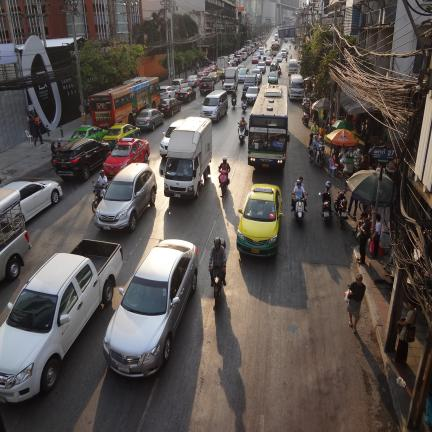bus: (89, 77, 160, 128), (248, 84, 289, 167)
car: (103, 240, 198, 377), (94, 163, 157, 232), (54, 139, 111, 181), (4, 181, 62, 222), (160, 119, 185, 157), (67, 125, 107, 142), (135, 108, 164, 130), (158, 98, 181, 116), (176, 86, 196, 102), (171, 78, 188, 92), (246, 86, 260, 103), (160, 86, 175, 98), (251, 68, 262, 83), (187, 75, 199, 88), (238, 68, 249, 82), (257, 61, 266, 74), (216, 68, 225, 79), (116, 142, 117, 144), (138, 129, 139, 130)
human: (392, 300, 417, 364), (347, 273, 366, 333), (209, 237, 226, 286), (357, 212, 371, 264), (371, 211, 382, 258), (291, 179, 307, 211), (218, 156, 230, 184), (312, 135, 320, 165), (348, 195, 358, 217), (34, 119, 42, 146), (96, 170, 107, 187), (28, 115, 35, 140), (360, 154, 370, 170), (310, 120, 319, 134), (239, 116, 247, 127), (51, 140, 57, 154), (298, 176, 304, 188), (241, 90, 246, 101), (370, 164, 376, 170), (294, 181, 297, 187), (219, 175, 220, 187)
motorbike: (212, 268, 223, 309), (318, 191, 332, 223), (337, 197, 348, 228), (92, 182, 103, 213), (334, 188, 348, 212), (294, 196, 305, 224), (314, 143, 324, 167), (219, 170, 228, 196), (316, 142, 324, 168), (238, 122, 247, 144), (302, 98, 310, 116), (302, 111, 310, 127), (308, 145, 314, 162), (51, 153, 56, 167), (242, 99, 247, 112), (51, 153, 55, 167), (57, 138, 61, 149), (232, 97, 236, 108), (278, 69, 282, 76), (222, 79, 225, 86), (286, 56, 288, 62), (293, 192, 294, 196), (306, 194, 307, 195)
pickup: (0, 240, 123, 402), (199, 76, 215, 95)
taxi: (236, 184, 283, 256), (103, 138, 150, 177), (104, 123, 140, 149), (208, 71, 220, 84), (268, 71, 278, 84)
truck: (160, 117, 212, 198), (223, 66, 238, 91)
van: (0, 187, 31, 281), (200, 90, 228, 122), (288, 74, 304, 100), (243, 73, 258, 91), (288, 59, 298, 76)
